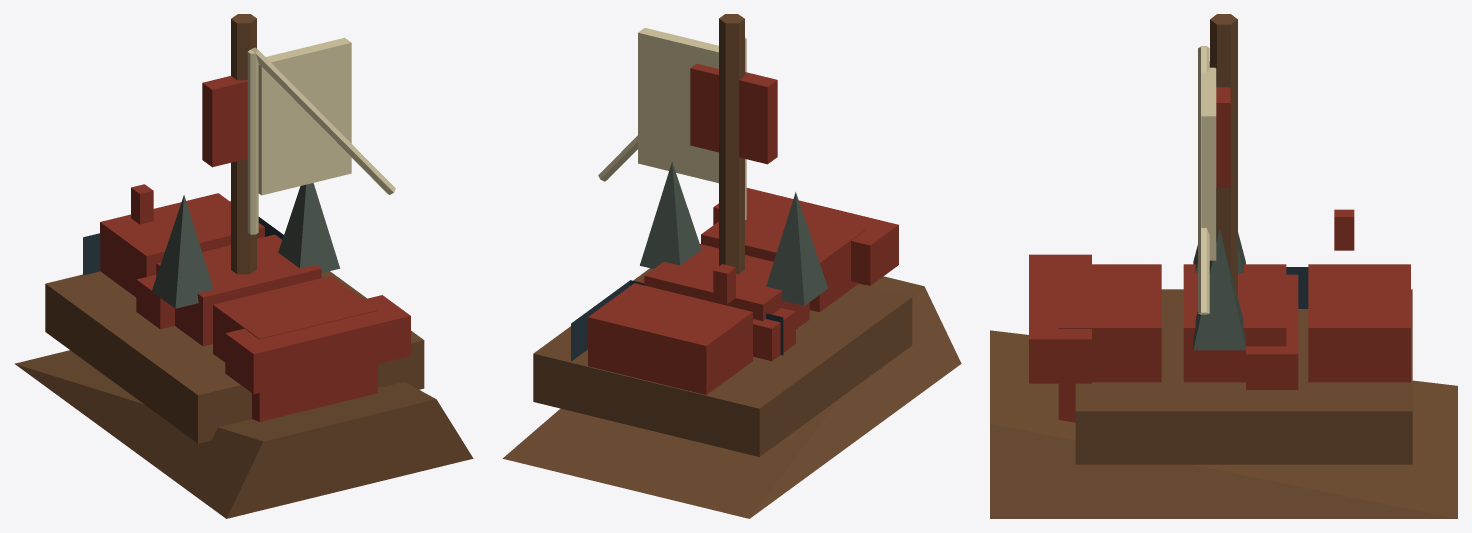
The model's file is trade-ship.obj.
The picture shows the model from 3 angles, left to right: view 1: azimuth 30°, elevation 25°; view 2: azimuth 150°, elevation 25°; view 3: azimuth 270°, elevation 25°; orthographic projection. The views are drawn at different scales.
Visible parts, largest first — view 1: ship; view 2: ship; view 3: ship.
Part boxes in pixels (box(x1,y1,x2,y2)): ship: box(14, 14, 473, 518); ship: box(503, 14, 961, 518); ship: box(990, 14, 1457, 518).
Size of the model in its own units: 1.54 by 2.18 by 2.14.
